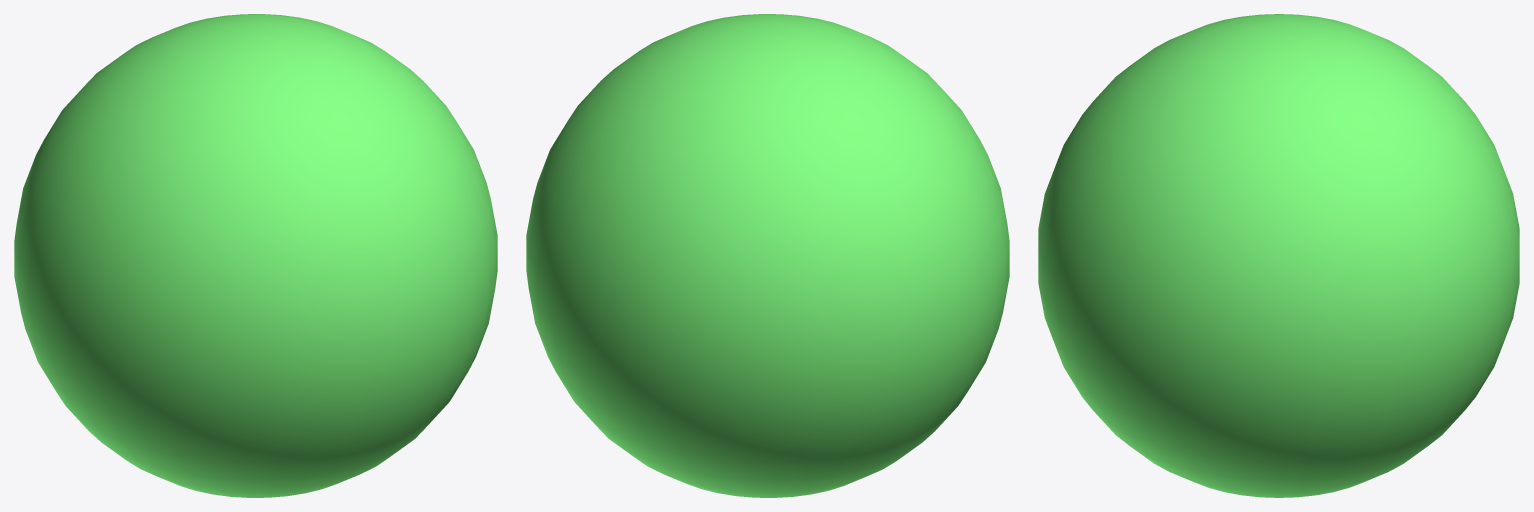
The model's file is Projectile.fbx.
3 views of the same model, side by side, from view 1: azimuth 30°, elevation 25°; view 2: azimuth 150°, elevation 25°; view 3: azimuth 270°, elevation 25° (orthographic).
Visible parts, largest first — view 1: Revolve1; view 2: Revolve1; view 3: Revolve1.
Boxes of the visible parts, x1=… form: Revolve1: x1=14, y1=14, x2=497, y2=497; Revolve1: x1=526, y1=14, x2=1009, y2=497; Revolve1: x1=1038, y1=14, x2=1519, y2=497.
Bounding box in the file's own units: 0.667 × 0.6693 × 0.6647.
